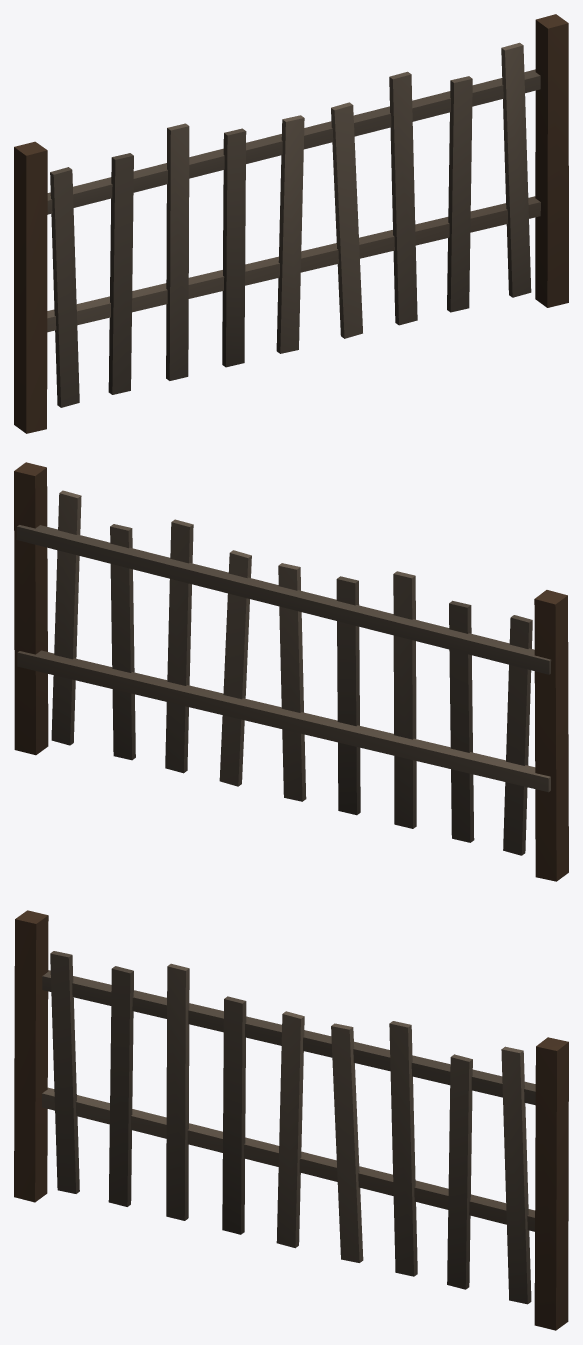
Rendered from ph_env_garden_fence.glb.
3 views of the same model, one above another, from view 1: azimuth 30°, elevation 25°; view 2: azimuth 150°, elevation 25°; view 3: azimuth 330°, elevation 25° (orthographic).
Visible parts, largest first — view 1: ph_env_garden_fence; view 2: ph_env_garden_fence; view 3: ph_env_garden_fence.
Part boxes in pixels (box(x1,y1,x2,y2)): ph_env_garden_fence: box(14, 14, 568, 433); ph_env_garden_fence: box(14, 462, 568, 881); ph_env_garden_fence: box(14, 910, 568, 1330).
Bounding box in the file's own units: 2.04 × 1 × 0.0992.
